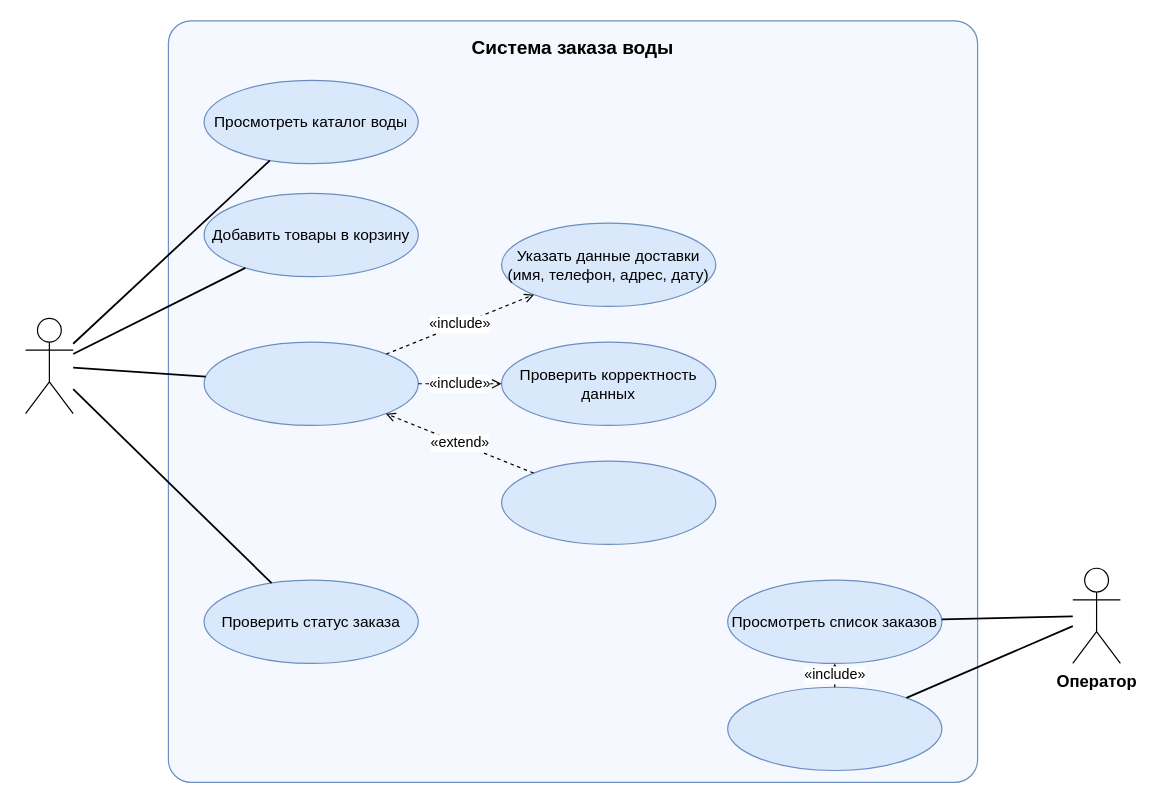
Some shapes in this 1157 by 803 pixel diagram are drawn without their labels. The shapes that lost their labels are listed below. From the top down, each one's centre as x and y in pixels, then its label:
At point 48,365: "Клиент".
At point 310,383: "Оформить заказ".
At point 608,502: "Показать ошибки ввода".
At point 834,728: "Изменить статус заказа".
